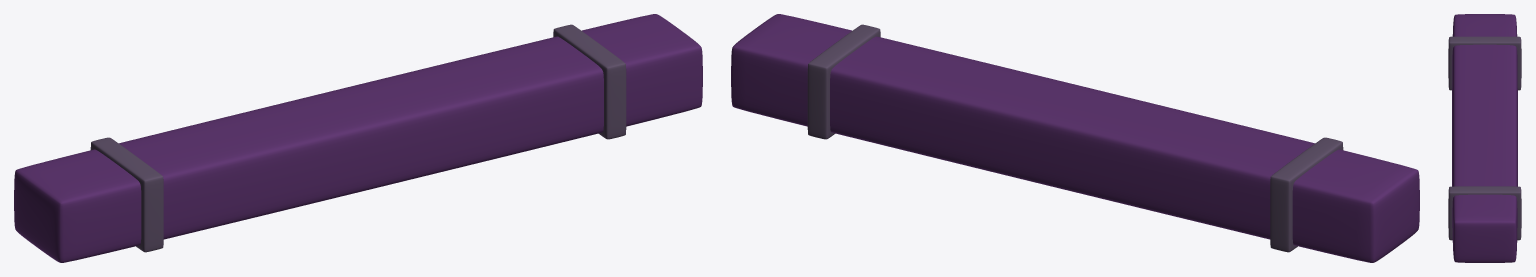
Rendered from SM_SB_Kit_KeelShell_RibBeam.fbx.
The picture shows the model from 3 angles, left to right: view 1: azimuth 30°, elevation 25°; view 2: azimuth 150°, elevation 25°; view 3: azimuth 270°, elevation 25°; orthographic projection. The views are drawn at different scales.
Parts seen in each view (by area): view 1: SM_SB_Kit_KeelShell_RibBeam; view 2: SM_SB_Kit_KeelShell_RibBeam; view 3: SM_SB_Kit_KeelShell_RibBeam.
Part boxes in pixels (x1=…): SM_SB_Kit_KeelShell_RibBeam: x1=14, y1=14, x2=702, y2=262; SM_SB_Kit_KeelShell_RibBeam: x1=731, y1=14, x2=1419, y2=262; SM_SB_Kit_KeelShell_RibBeam: x1=1448, y1=14, x2=1521, y2=262.
Size of the model in its own units: 420 by 61.9 by 48.15.
